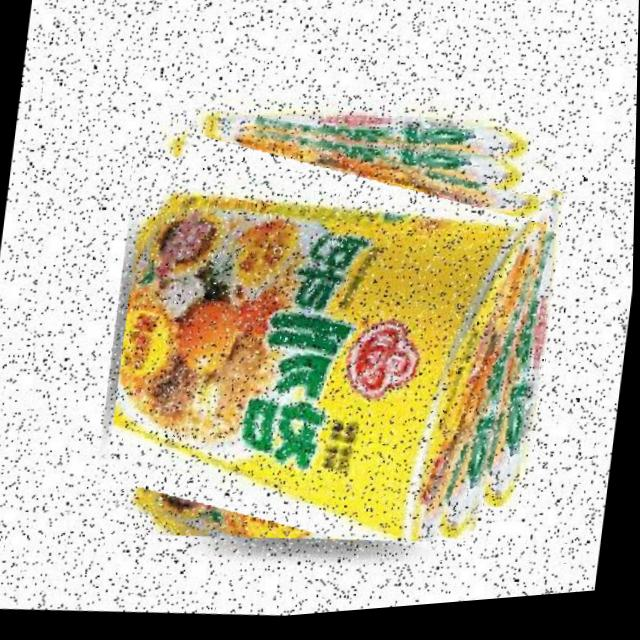Miscellaneous: (100, 94, 564, 578)
